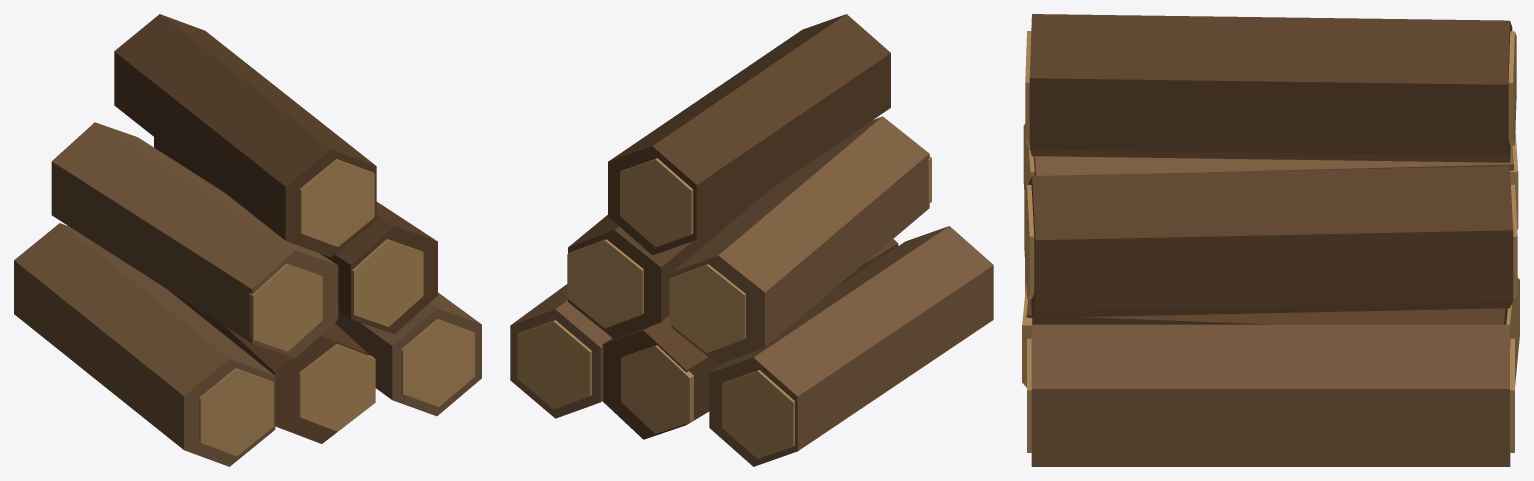
The model's file is Scatter_LogPile.fbx.
3 renders of one model, left to right at view 1: azimuth 30°, elevation 25°; view 2: azimuth 150°, elevation 25°; view 3: azimuth 270°, elevation 25°, orthographic. The views are drawn at different scales.
Visible parts, largest first — view 1: LogPile; view 2: LogPile; view 3: LogPile.
Boxes of the visible parts, bbox=[...] form: LogPile: bbox=[14, 14, 481, 466]; LogPile: bbox=[510, 14, 993, 466]; LogPile: bbox=[1022, 14, 1519, 466].
Bounding box in the file's own units: 4.72 × 4.44 × 5.2.
